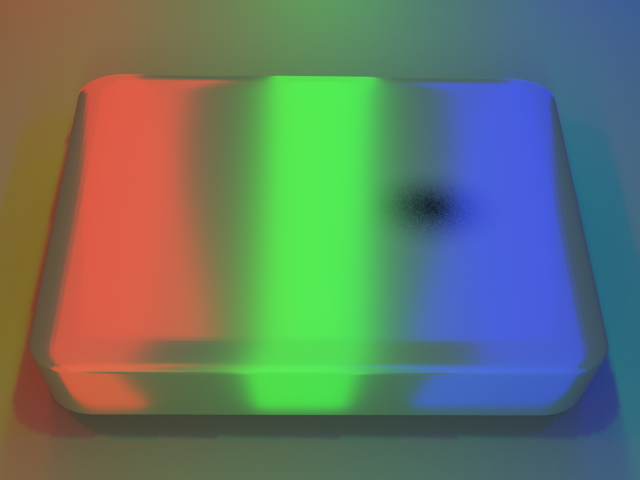stain: (334, 126, 561, 251)
